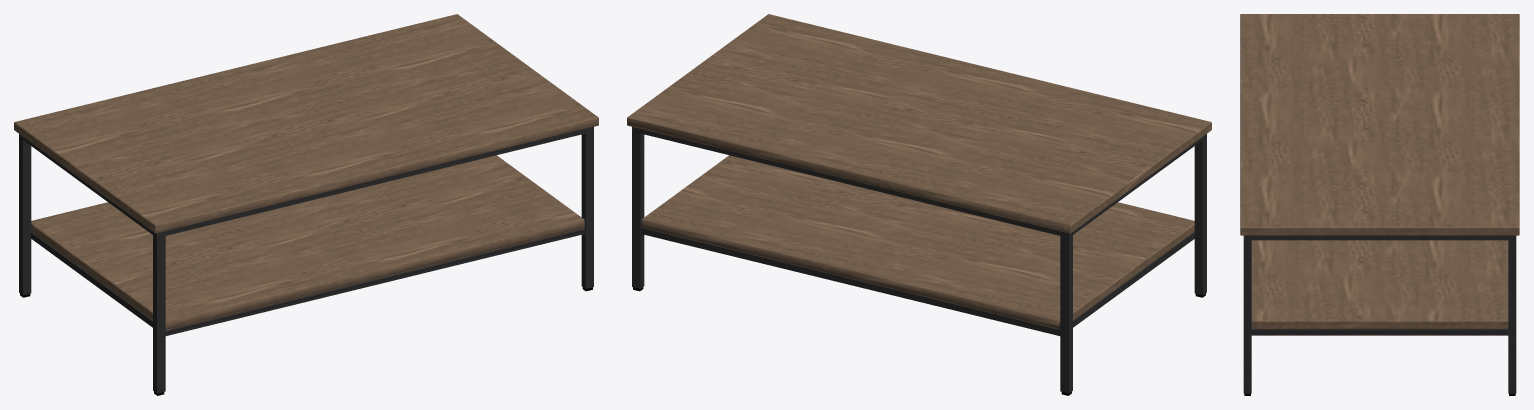
Rendered from ToolTable.fbx.
3 renders of one model, left to right at view 1: azimuth 30°, elevation 25°; view 2: azimuth 150°, elevation 25°; view 3: azimuth 270°, elevation 25°, orthographic.
Visible parts, largest first — view 1: ToolTaable; view 2: ToolTaable; view 3: ToolTaable.
Part boxes in pixels (x1=…): ToolTaable: x1=14, y1=14, x2=598, y2=395; ToolTaable: x1=627, y1=14, x2=1211, y2=395; ToolTaable: x1=1240, y1=14, x2=1519, y2=395.
Bounding box in the file's own units: 900 × 335 × 497.
